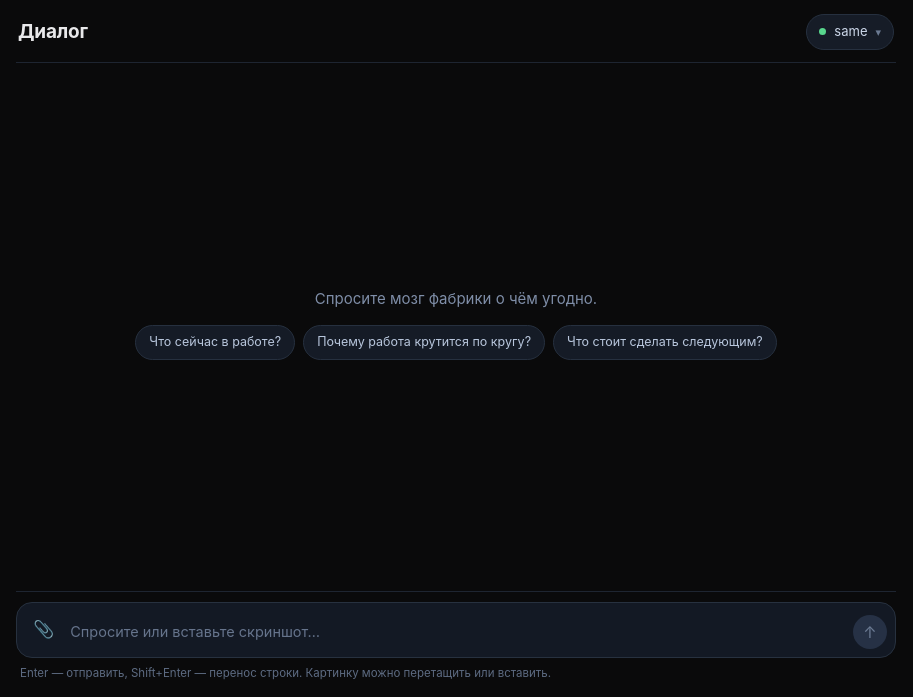
selects a configured model and sends the full multi-turn history
Click the button with aria-label "Модель для диалога" at (850, 32), box [806,14,894,50]
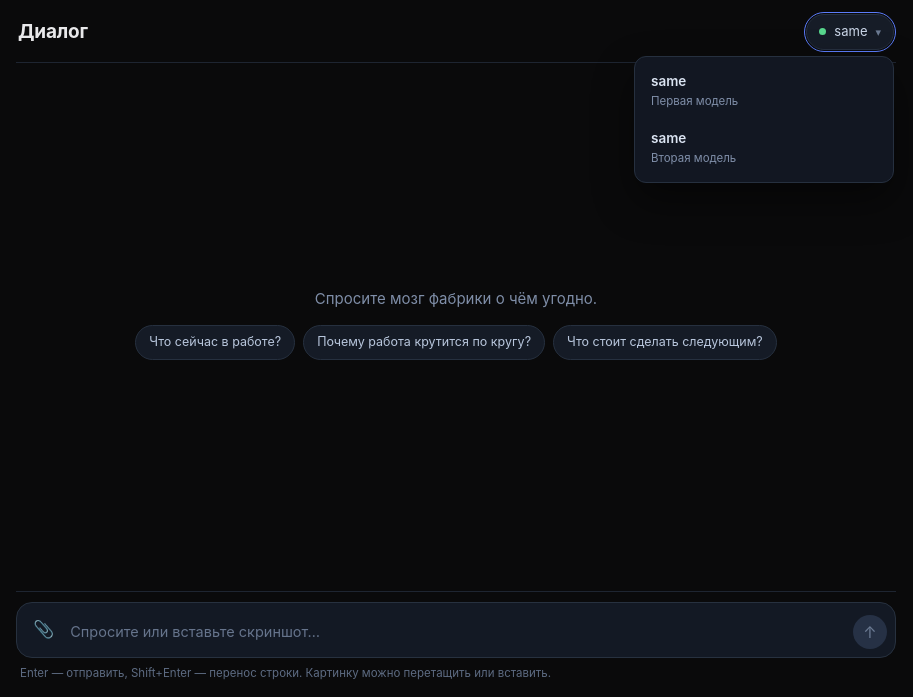
Click the option "same Вторая модель" at (764, 148), box [641,120,887,176]
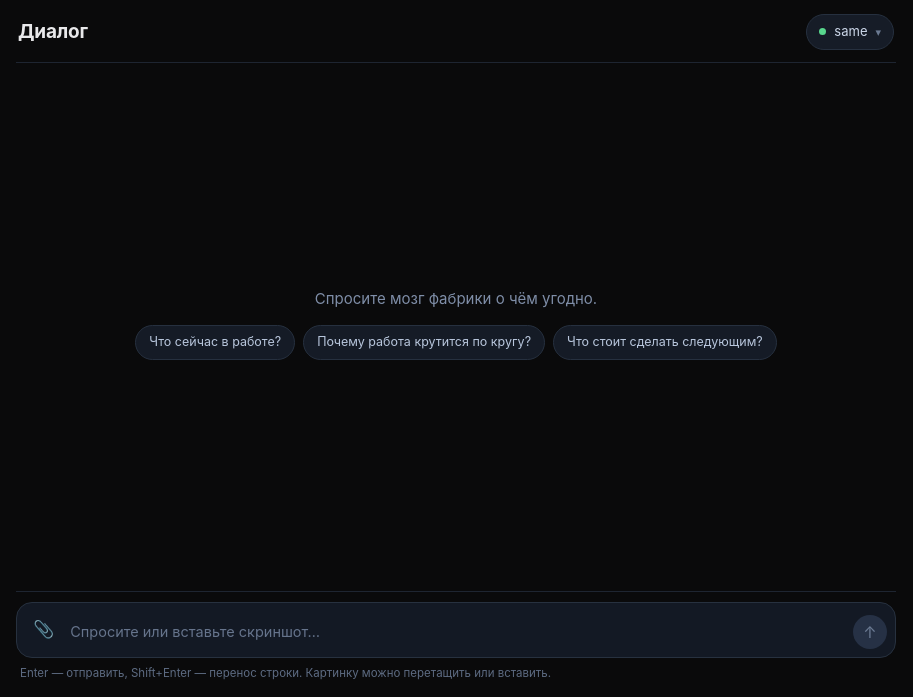
Type "Первый вопрос" into the text box named "Ваш вопрос" at (457, 632), box [68,615,845,649]
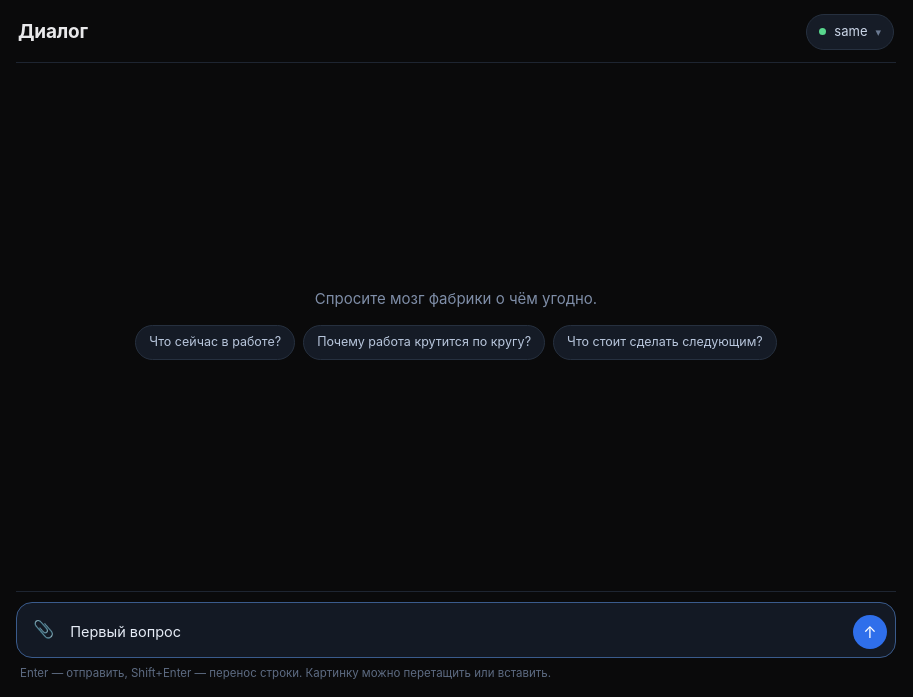
Click the button named "Отправить" at (870, 632), box [853,615,887,649]
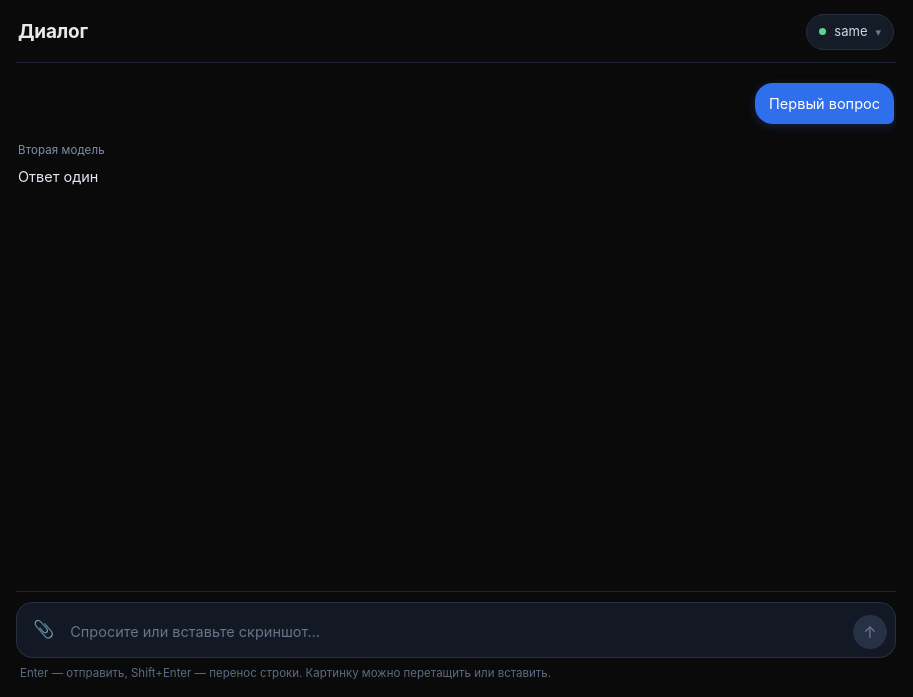
Now the text "Ответ один" is shown, box [18,164,105,188]
Type "Второй вопрос" into the text box named "Ваш вопрос" at (457, 632), box [68,615,845,649]
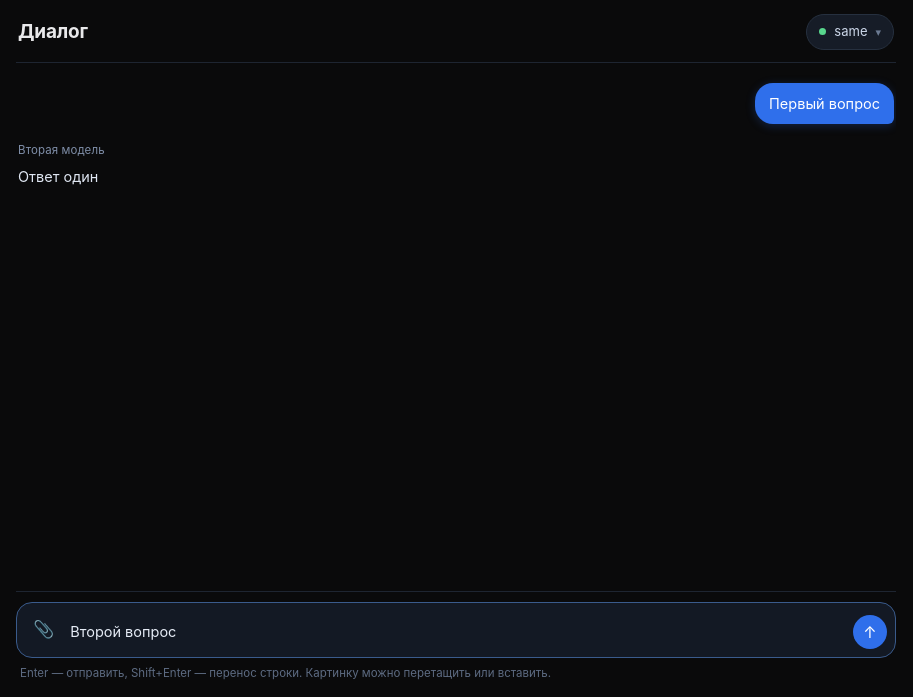
Click the button named "Отправить" at (870, 632), box [853,615,887,649]
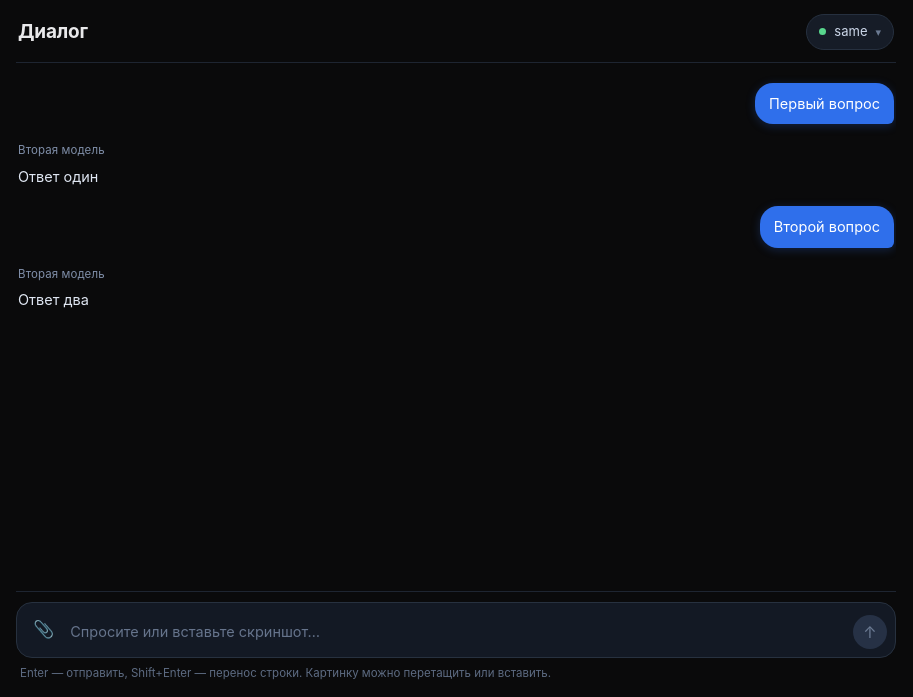
Now the text "Ответ два" is shown, box [18,291,89,308]
